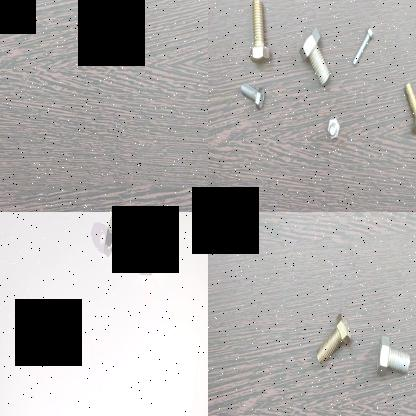Bolts: (295, 21, 337, 93), (312, 309, 354, 372), (372, 330, 416, 383), (245, 0, 275, 63), (236, 79, 272, 113), (351, 26, 375, 70), (401, 81, 416, 138), (325, 115, 347, 141)
NUTS: (134, 223, 166, 291), (90, 223, 116, 265)
